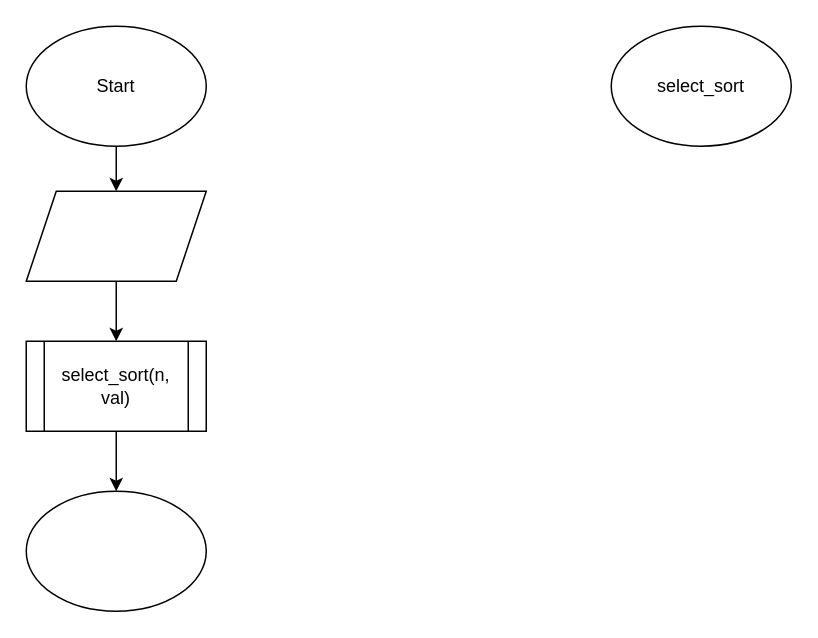
Some shapes in this 818 by 638 pixel diagram are drawn without their labels. Here are the shapes that lost their labels. From the top down, the centre of each, then its label:
At (115,235): "int n int val[]".
At (115,550): "END".
